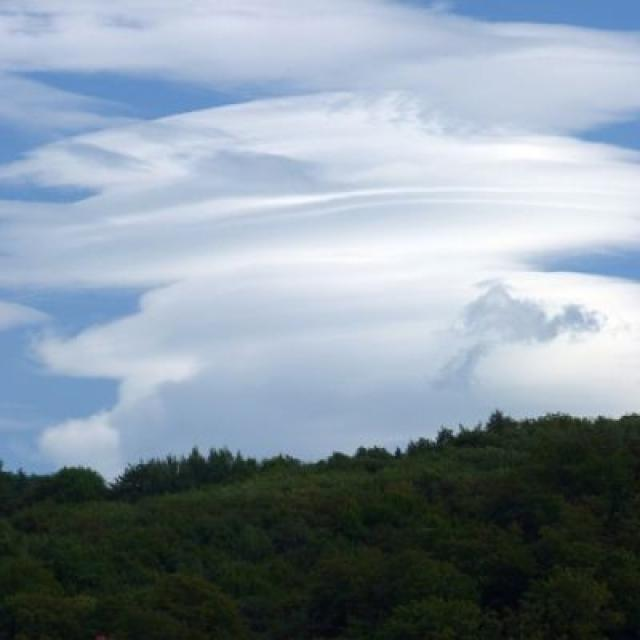Ac: (5, 17, 640, 382)
